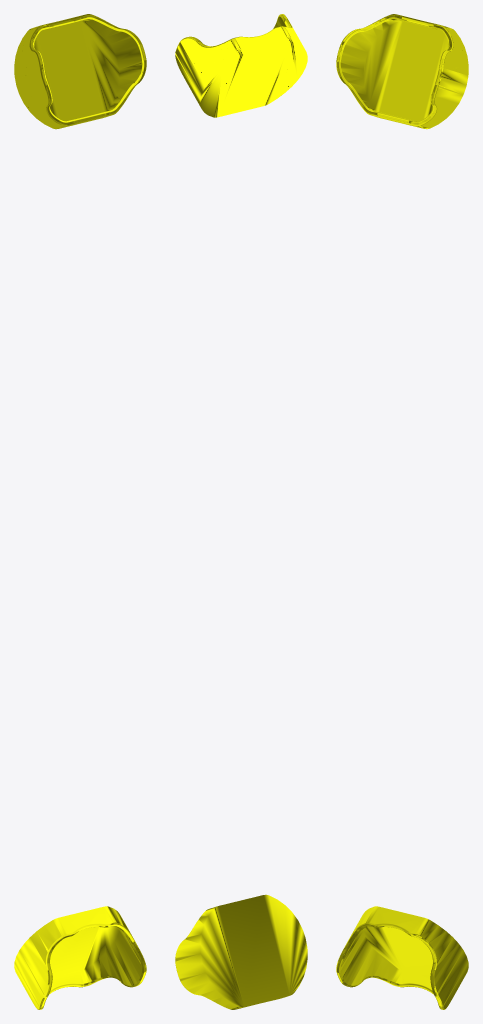
File: estop_protector.dae
The picture shows the model from 3 angles, left to right: view 1: azimuth 30°, elevation 25°; view 2: azimuth 210°, elevation 25°; view 3: azimuth 330°, elevation 25°; orthographic projection.
Visible parts, largest first — view 1: Node_0x7f5033463b10; view 2: Node_0x7f5033463b10; view 3: Node_0x7f5033463b10.
Part boxes in pixels (x1,y1,x2,y2): Node_0x7f5033463b10: (14, 14, 146, 1009); Node_0x7f5033463b10: (175, 14, 307, 1009); Node_0x7f5033463b10: (336, 14, 468, 1009).
Size of the model in its own units: 0.055 by 0.4936 by 0.0388.
